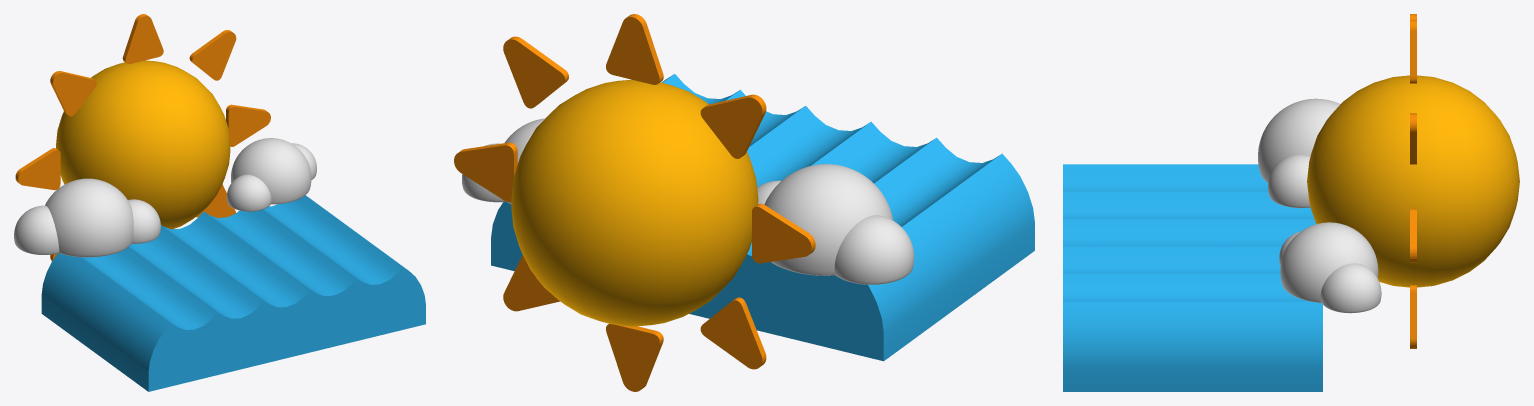
File: sunrise.glb
3 renders of one model, left to right at view 1: azimuth 30°, elevation 25°; view 2: azimuth 150°, elevation 25°; view 3: azimuth 270°, elevation 25°, orthographic. The views are drawn at different scales.
Visible parts, largest first — view 1: Cube.528, Cube.530, Cube.531, Cube.529; view 2: Cube.530, Cube.528, Cube.531, Cube.529; view 3: Cube.528, Cube.530, Cube.529, Cube.531.
Part boxes in pixels (<box>): Cube.528: <box>41,195,425,391</box>; Cube.530: <box>15,14,270,260</box>; Cube.531: <box>14,178,160,257</box>; Cube.529: <box>226,138,316,211</box>; Cube.530: <box>454,14,815,391</box>; Cube.528: <box>491,74,1034,361</box>; Cube.531: <box>757,164,914,284</box>; Cube.529: <box>462,118,545,203</box>; Cube.528: <box>1063,164,1322,391</box>; Cube.530: <box>1307,14,1519,348</box>; Cube.529: <box>1279,222,1381,313</box>; Cube.531: <box>1258,98,1340,207</box>.
Bounding box in the file's own units: 2.19 × 1.82 × 2.34.
Materials: 1 (1 with a texture image).
